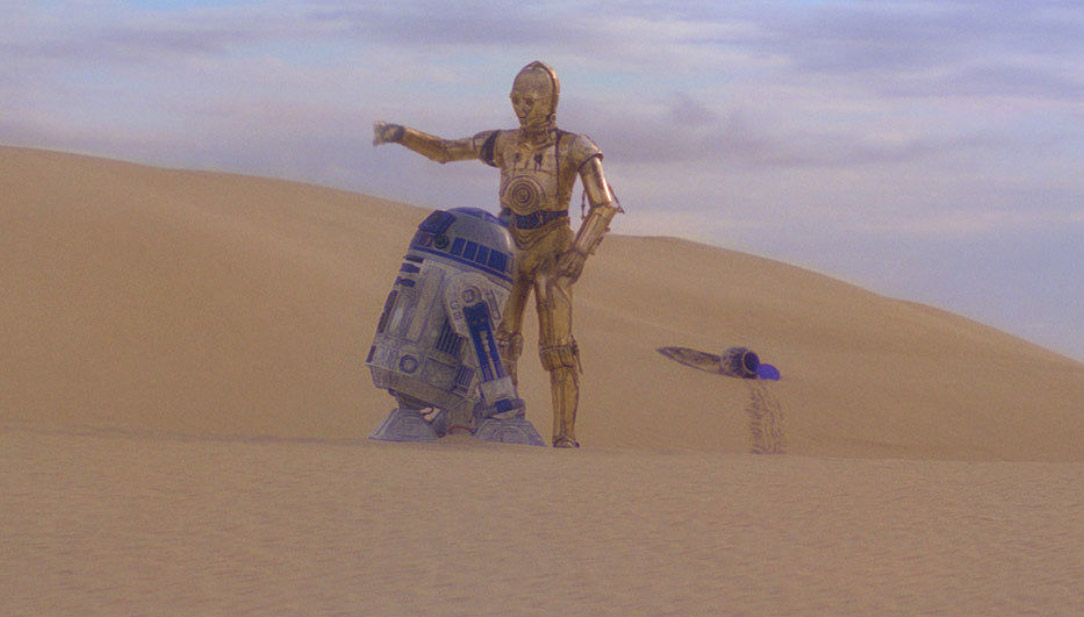r2d2: (365, 206, 547, 447)
